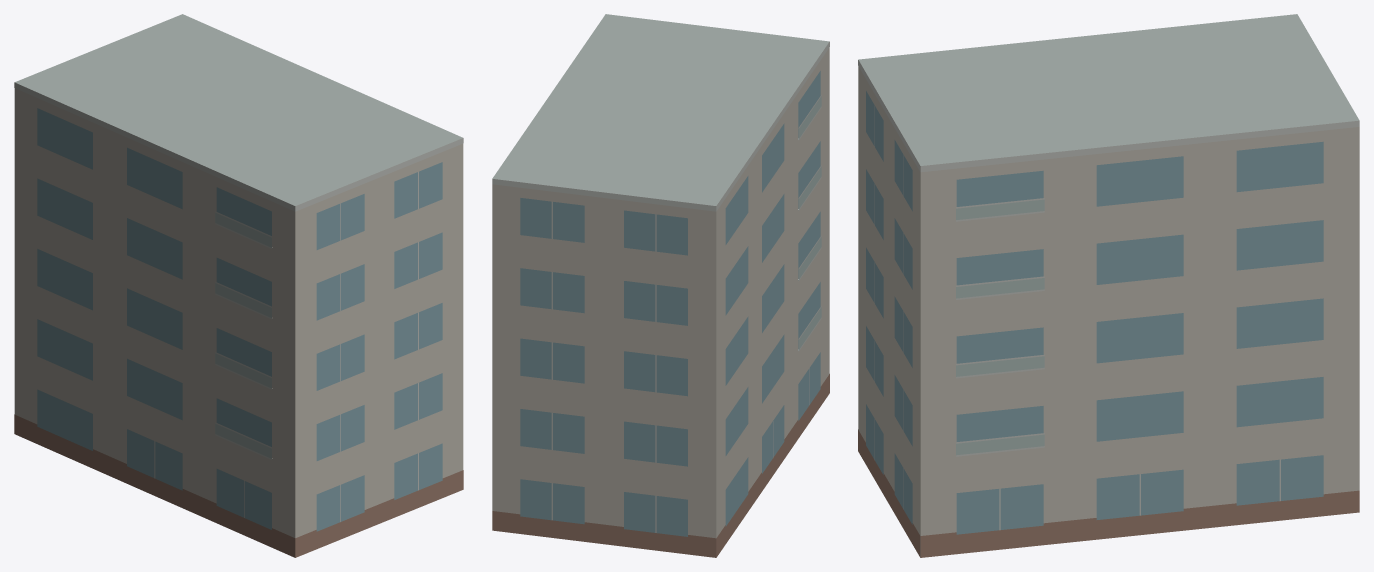
File: survey-upis-32680564.glb
3 views of the same model, side by side, from view 1: azimuth 30°, elevation 25°; view 2: azimuth 150°, elevation 25°; view 3: azimuth 270°, elevation 25° (orthographic). The views are drawn at different scales.
Visible parts, largest first — view 1: survey-upis-32680564.tmp; view 2: survey-upis-32680564.tmp; view 3: survey-upis-32680564.tmp.
Boxes of the visible parts, bbox=[...] form: survey-upis-32680564.tmp: bbox=[14, 14, 463, 557]; survey-upis-32680564.tmp: bbox=[492, 14, 829, 557]; survey-upis-32680564.tmp: bbox=[858, 14, 1359, 557].
Size of the model in its own units: 12.91 by 15.5 by 17.99.
